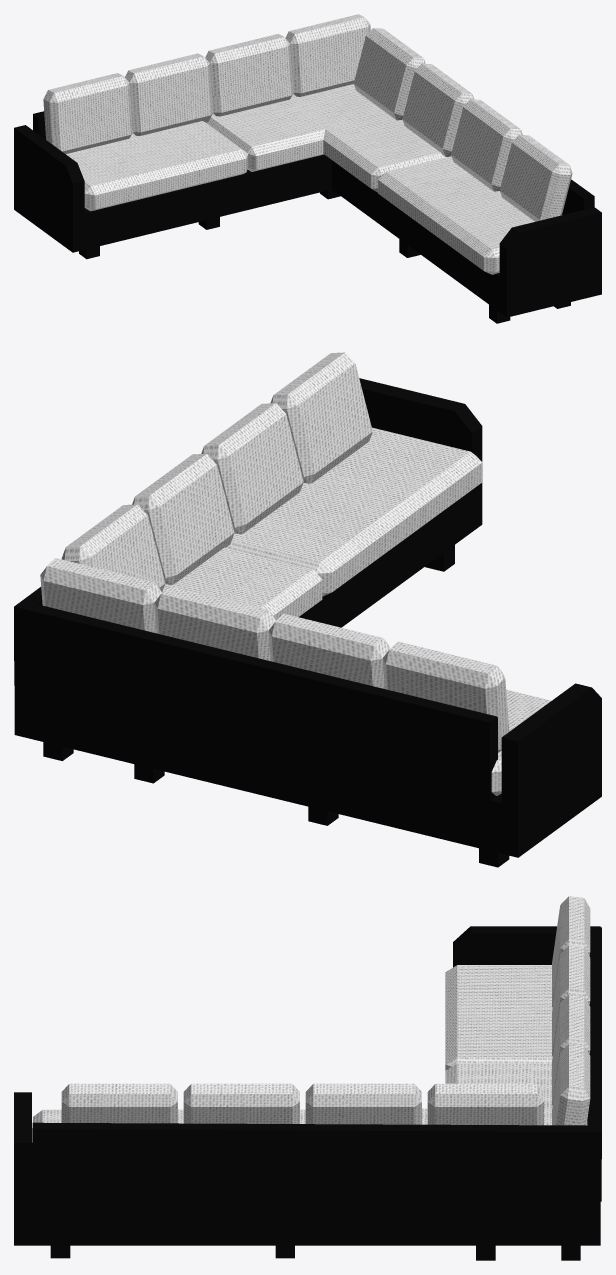
Rendered from l couch.fbx.
3 views of the same model, one above another, from view 1: azimuth 30°, elevation 25°; view 2: azimuth 150°, elevation 25°; view 3: azimuth 270°, elevation 25° (orthographic). The views are drawn at different scales.
Visible parts, largest first — view 1: coushins, base; view 2: base, coushins; view 3: base, coushins.
Boxes of the visible parts, box(x1,y1,x2,y2) form: coushins: box(43, 14, 572, 274); base: box(14, 111, 601, 323); base: box(14, 378, 601, 867); coushins: box(40, 352, 551, 795); base: box(14, 926, 601, 1260); coushins: box(33, 896, 590, 1125).
Size of the model in its own units: 343 by 127 by 393.
Materials: 2 (1 with a texture image).
